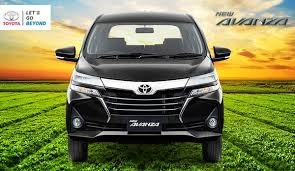mobil: (64, 11, 226, 171)
